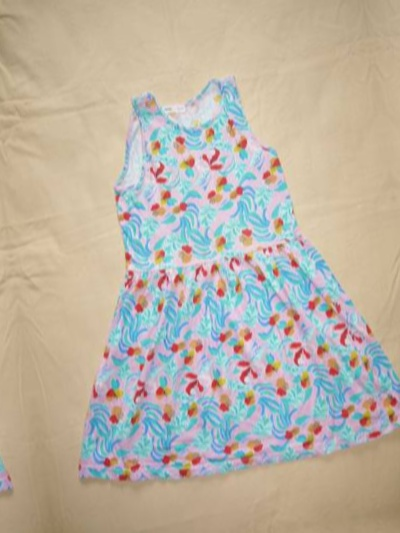Dress: (7, 52, 400, 501), (0, 112, 29, 533), (391, 0, 400, 441)
